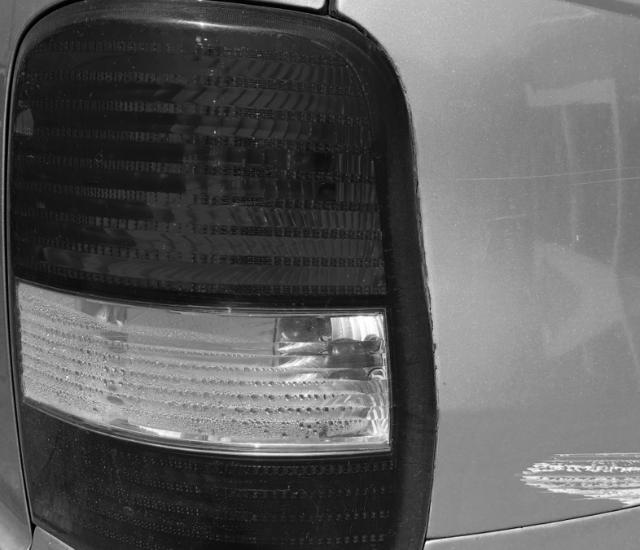Dickey: (498, 416, 640, 544)
